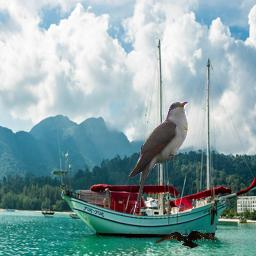Crow: (155, 230, 216, 251)
Cuckoo: (128, 101, 188, 217)
